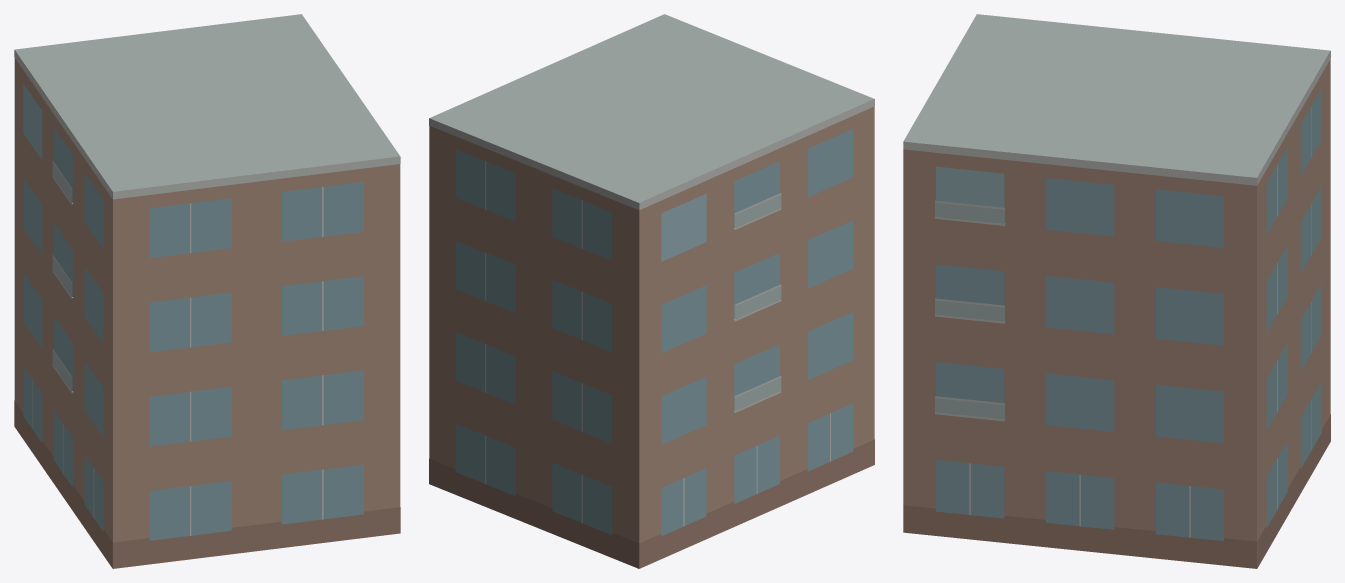
Rendered from residential-24d6fc36-4cd7-41c7-bbe4-3572125317fc.glb.
3 views of the same model, side by side, from view 1: azimuth 30°, elevation 25°; view 2: azimuth 150°, elevation 25°; view 3: azimuth 270°, elevation 25° (orthographic). The views are drawn at different scales.
Visible parts, largest first — view 1: residential-24d6fc36-4cd7-41c7-bbe4-3572125317fc.tmp; view 2: residential-24d6fc36-4cd7-41c7-bbe4-3572125317fc.tmp; view 3: residential-24d6fc36-4cd7-41c7-bbe4-3572125317fc.tmp.
Boxes of the visible parts, x1=… form: residential-24d6fc36-4cd7-41c7-bbe4-3572125317fc.tmp: x1=14, y1=14, x2=400, y2=568; residential-24d6fc36-4cd7-41c7-bbe4-3572125317fc.tmp: x1=429, y1=14, x2=874, y2=568; residential-24d6fc36-4cd7-41c7-bbe4-3572125317fc.tmp: x1=903, y1=14, x2=1330, y2=568.
Bounding box in the file's own units: 10.98 × 12.2 × 12.1.
